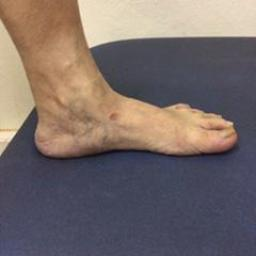Medial View -Left Foot-: (19, 62, 240, 172)
